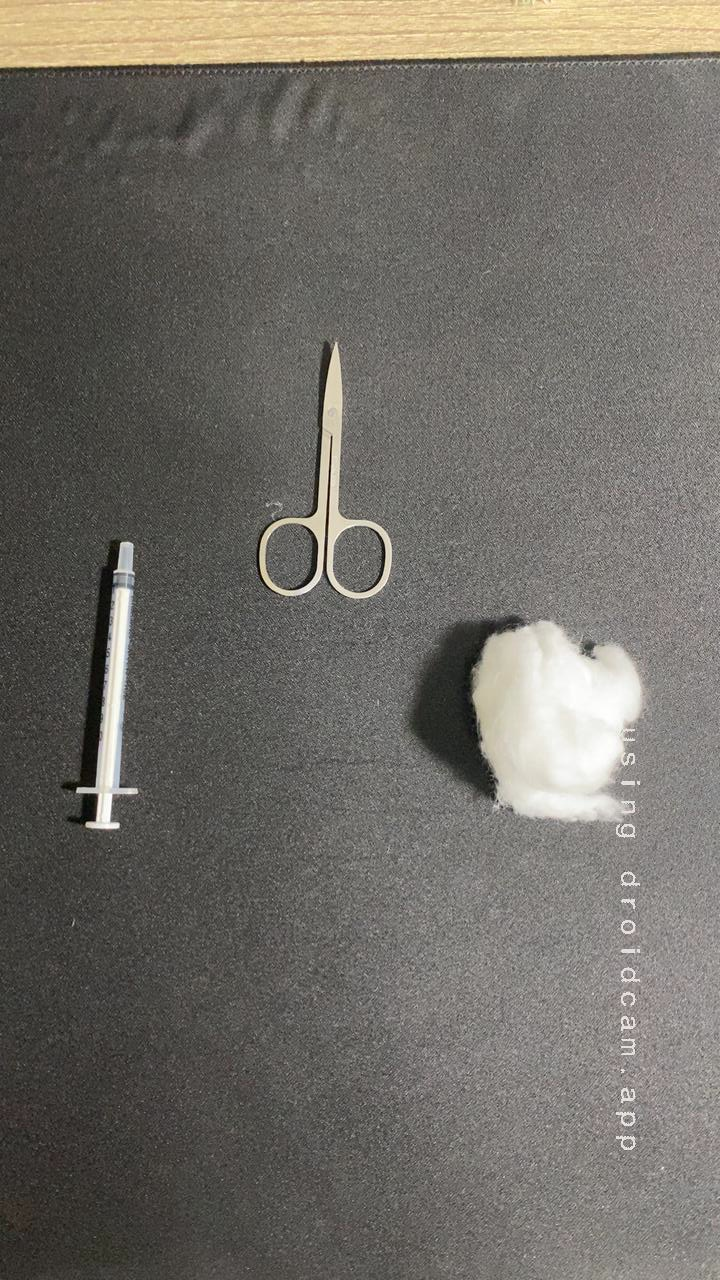cotton: (439, 599, 673, 853)
scissor: (236, 326, 414, 614)
syringe: (39, 525, 180, 847)
